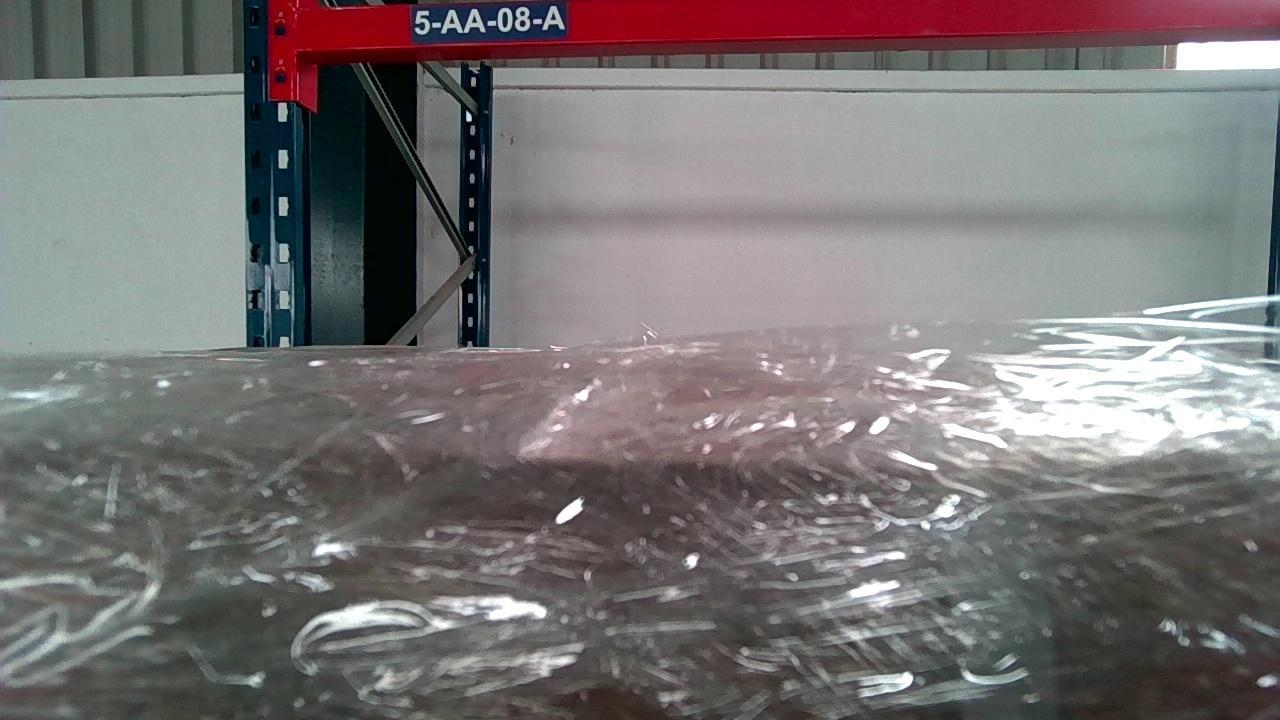h_rack: (296, 1, 1277, 59)
